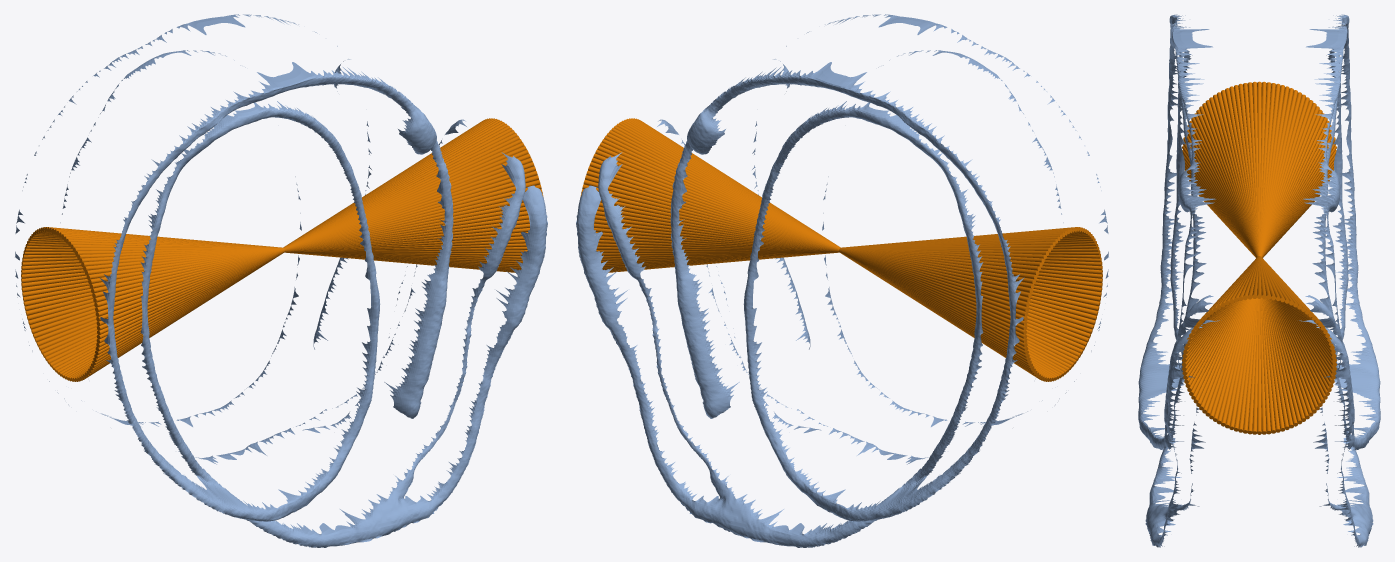
Rendered from A20024942_5995-37-531-2361_DigitalTwin.glb.
3 views of the same model, side by side, from view 1: azimuth 30°, elevation 25°; view 2: azimuth 150°, elevation 25°; view 3: azimuth 270°, elevation 25° (orthographic). The views are drawn at different scales.
Visible parts, largest first — view 1: world; view 2: world; view 3: world.
Part boxes in pixels (x1,y1,x2,y2): world: (15,14,547,547); world: (576,14,1108,547); world: (1138,14,1380,547).
Size of the model in its own units: 421 by 418 by 202.
